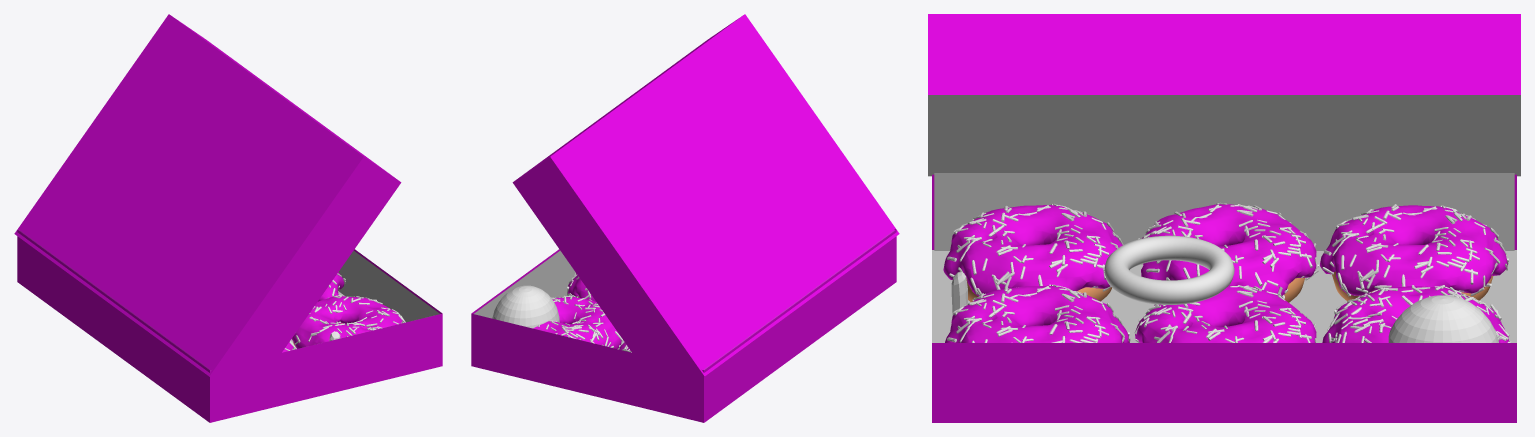
The model's file is Donut.fbx.
3 renders of one model, left to right at view 1: azimuth 30°, elevation 25°; view 2: azimuth 150°, elevation 25°; view 3: azimuth 270°, elevation 25°, orthographic. The views are drawn at different scales.
Visible parts, largest first — view 1: Cube.003, Cube.002, Cube.001, Liquid Domain.005; view 2: Cube.003, Cube.002, Liquid Domain.003, Sphere, Cube.001; view 3: Cube.003, Cube.002, Cube.001, Liquid Domain, Liquid Domain.002, Liquid Domain.001, Liquid Domain.005, Liquid Domain.004, Torus.001, Sphere, Liquid Domain.003, Cube.
Boxes of the visible parts, x1,y1,x2,y2 form: Cube.003: [14, 14, 401, 401]; Cube.002: [17, 229, 442, 422]; Cube.001: [19, 230, 439, 370]; Liquid Domain.005: [291, 296, 402, 348]; Cube.003: [512, 14, 899, 401]; Cube.002: [471, 229, 896, 422]; Liquid Domain.003: [533, 297, 621, 348]; Sphere: [492, 285, 559, 328]; Cube.001: [474, 230, 894, 370]; Cube.003: [928, 14, 1520, 176]; Cube.002: [932, 174, 1516, 422]; Cube.001: [934, 173, 1514, 250]; Liquid Domain: [1320, 205, 1507, 295]; Liquid Domain.002: [943, 205, 1122, 296]; Liquid Domain.001: [1141, 204, 1316, 295]; Liquid Domain.005: [945, 285, 1129, 342]; Liquid Domain.004: [1135, 285, 1316, 342]; Torus.001: [1104, 235, 1234, 304]; Sphere: [1388, 295, 1498, 342]; Liquid Domain.003: [1322, 286, 1509, 342]; Cube: [951, 271, 967, 315].
Bounding box in the file's own units: 327 × 317 × 470.
